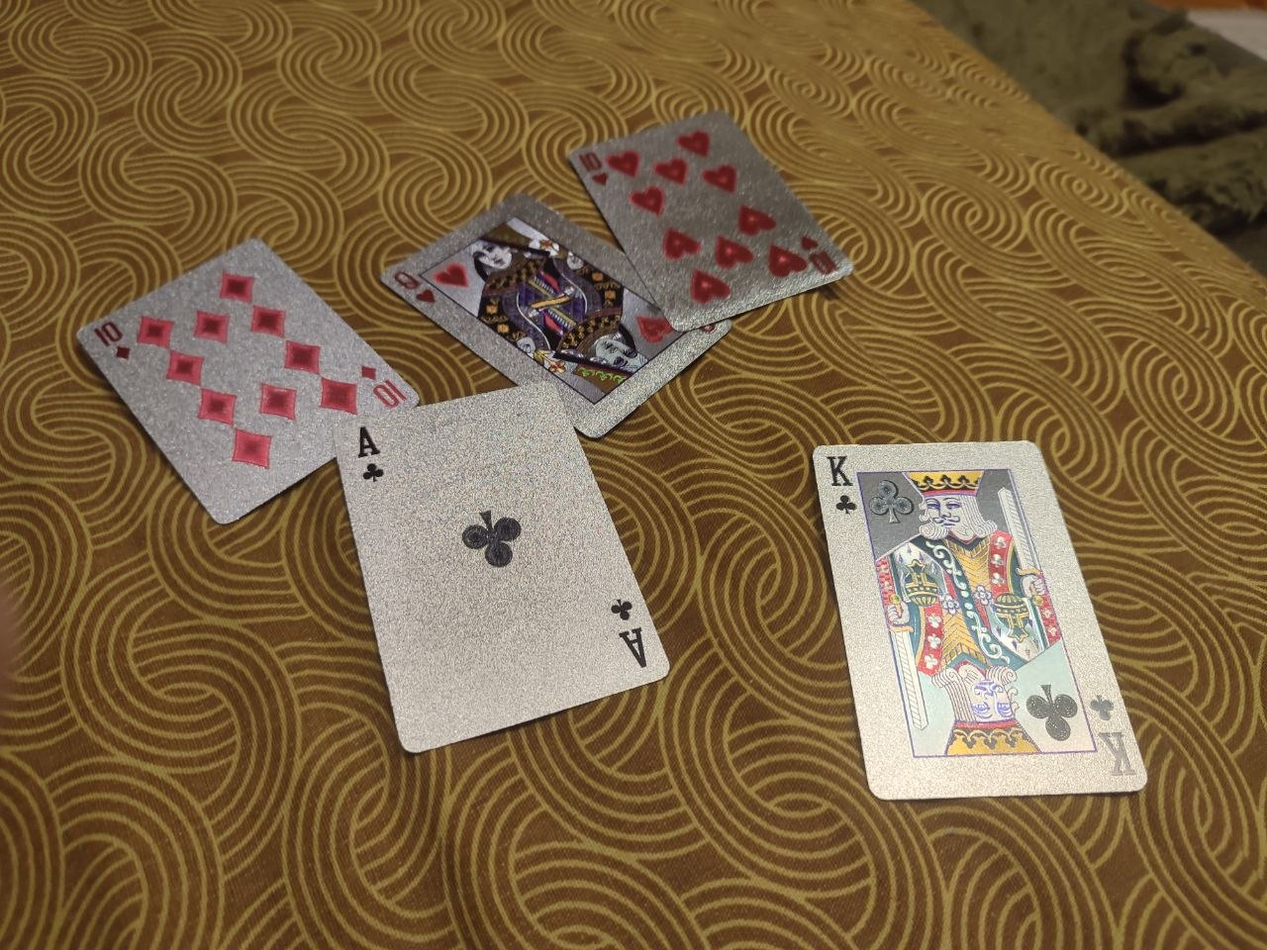10D: (74, 235, 423, 524)
10H: (567, 109, 857, 330)
AC: (329, 381, 673, 755)
KC: (812, 436, 1154, 806)
QH: (380, 193, 735, 438)
